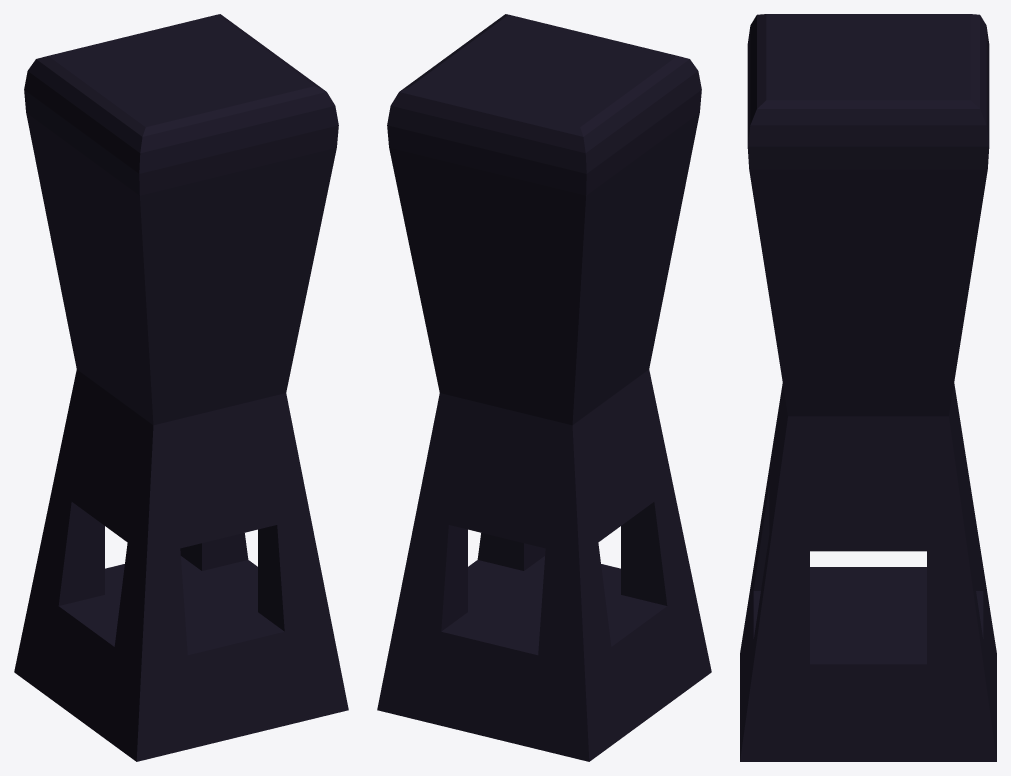
File: Pedestal.glb
The picture shows the model from 3 angles, left to right: view 1: azimuth 30°, elevation 25°; view 2: azimuth 150°, elevation 25°; view 3: azimuth 270°, elevation 25°; orthographic projection. The views are drawn at different scales.
Parts seen in each view (by area): view 1: Cube; view 2: Cube; view 3: Cube.
Part boxes in pixels (x1,y1,x2,y2): Cube: (14,14,348,761); Cube: (377,14,711,761); Cube: (740,14,996,761).
Size of the model in its own units: 2 by 5.59 by 2.
1 material, 1 textured.
